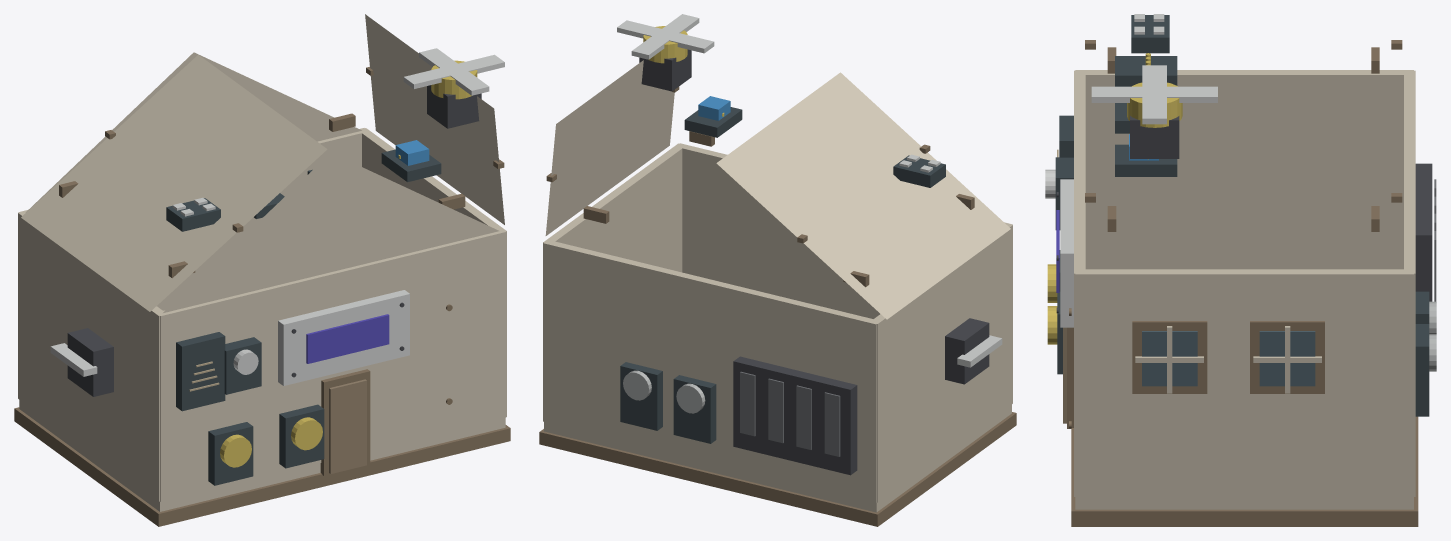
The model's file is keyestudio-smart-home.glb.
3 views of the same model, side by side, from view 1: azimuth 30°, elevation 25°; view 2: azimuth 150°, elevation 25°; view 3: azimuth 270°, elevation 25° (orthographic). The views are drawn at different scales.
Visible parts, largest first — view 1: Front_Wall_2, Roof_Left_8, Left_Wall_4, Gable_7, Roof_Right_11, Foundation_0, LCD_Housing_20, Floor_1, RFID_Module_26, Door_Interior_15, Gable_6, LCD_Screen_21 (+19 smaller); view 2: Rear_Wall_3, Roof_Left_8, Left_Wall_4, Front_Wall_2, Roof_Right_11, Right_Wall_5, Battery_Holder_64, Foundation_0, Floor_1, Rear_Sensor_69, Rear_Sensor_71, Servo_Unit_73 (+15 smaller); view 3: Right_Wall_5, Left_Wall_4, Foundation_0, Floor_1, Rear_Wall_3, Front_Wall_2, Window_Glass_76, Window_Glass_80, Window_Frame_79, Battery_Holder_64, Window_Frame_75, LCD_Housing_20 (+16 smaller).
Part boxes in pixels (x1,y1,x2,y2): Front_Wall_2: (157, 229, 506, 501); Roof_Left_8: (21, 54, 327, 311); Left_Wall_4: (18, 211, 165, 501); Gable_7: (163, 153, 498, 312); Roof_Right_11: (365, 14, 504, 224); Foundation_0: (14, 407, 510, 526); LCD_Housing_20: (278, 290, 409, 385); Floor_1: (19, 400, 505, 511); RFID_Module_26: (176, 332, 225, 411); Door_Interior_15: (329, 379, 366, 473); Gable_6: (25, 52, 361, 212); LCD_Screen_21: (306, 314, 389, 363); Rear_Wall_3: (543, 240, 876, 502); Roof_Left_8: (716, 72, 1010, 319); Left_Wall_4: (872, 223, 1012, 502); Front_Wall_2: (678, 143, 1012, 318); Roof_Right_11: (545, 60, 674, 235); Right_Wall_5: (543, 143, 685, 420); Battery_Holder_64: (733, 356, 857, 475); Foundation_0: (539, 412, 1016, 526); Floor_1: (544, 404, 1011, 512); Rear_Sensor_69: (673, 375, 716, 443); Rear_Sensor_71: (620, 362, 662, 430); Servo_Unit_73: (945, 318, 989, 384); Right_Wall_5: (1075, 269, 1413, 497); Left_Wall_4: (1075, 70, 1413, 269); Foundation_0: (1071, 416, 1418, 526); Floor_1: (1075, 497, 1413, 509); Rear_Wall_3: (1404, 70, 1415, 496); Front_Wall_2: (1074, 70, 1085, 496); Window_Glass_76: (1259, 331, 1315, 386); Window_Glass_80: (1142, 331, 1197, 386); Window_Frame_79: (1132, 321, 1207, 393); Battery_Holder_64: (1415, 163, 1432, 301); Window_Frame_75: (1250, 321, 1324, 393); LCD_Housing_20: (1060, 179, 1073, 327).
Bounding box in the file's own units: 2.63 × 2.17 × 1.82.
